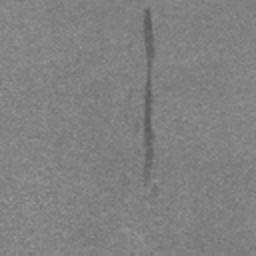Red iron sheet: (142, 6, 157, 182)
